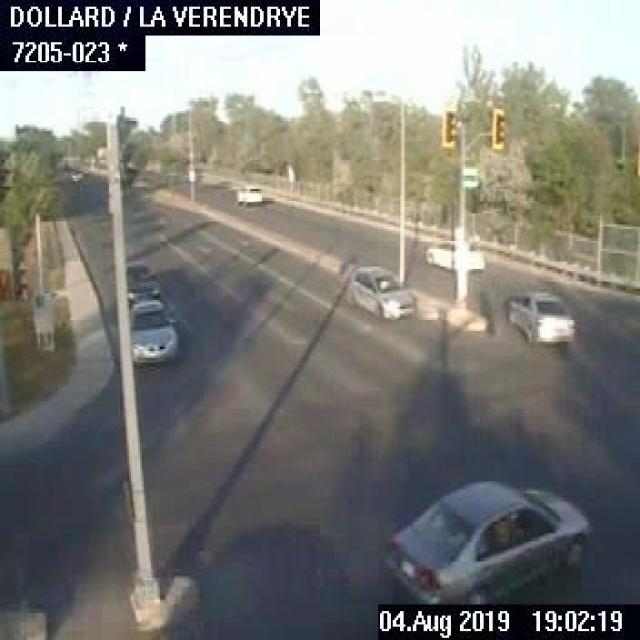vehicle: (378, 478, 591, 602), (346, 262, 418, 316), (506, 291, 574, 342), (128, 301, 174, 364), (422, 236, 484, 270), (125, 264, 162, 298), (235, 182, 260, 202), (69, 169, 84, 182)
